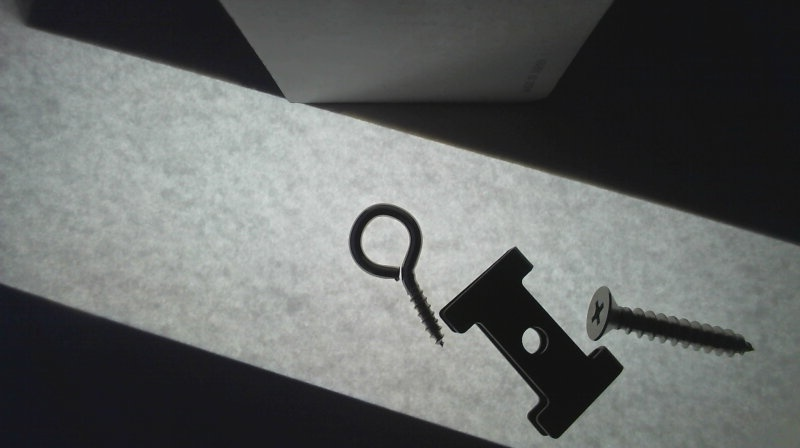O001: (346, 200, 445, 349)
O002: (437, 244, 626, 440)
S001: (581, 281, 756, 359)
